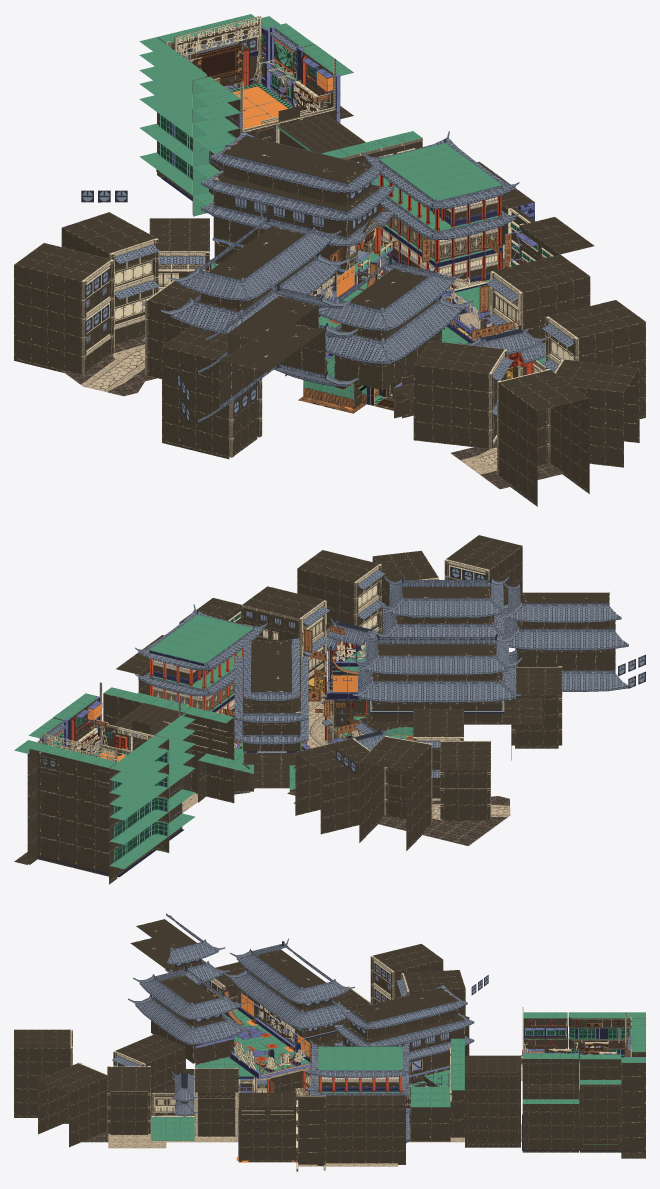
The model's file is c201-color.glb.
3 renders of one model, top to bottom at view 1: azimuth 30°, elevation 25°; view 2: azimuth 150°, elevation 25°; view 3: azimuth 270°, elevation 25°, orthographic. The views are drawn at different scales.
Visible parts, largest first — view 1: world_21_mesh_6, world_3_mesh_12, world_3_mesh_8, world_18_mesh_9, world_5_mesh_1, world_5_mesh_5, world_21_mesh_5, world_7_mesh_4, world_10_mesh_0, world_7_mesh_7, world_18_mesh_10, world_21_mesh_2 (+24 smaller); view 2: world_21_mesh_6, world_3_mesh_8, world_3_mesh_12, world_18_mesh_10, world_5_mesh_1, world_18_mesh_9, world_14_mesh_1, world_5_mesh_5, world_7_mesh_4, world_21_mesh_5, world_7_mesh_7, world_10_mesh_0 (+20 smaller); view 3: world_21_mesh_6, world_18_mesh_10, world_17_mesh_5, world_3_mesh_8, world_14_mesh_1, world_3_mesh_12, world_5_mesh_1, world_5_mesh_5, world_10_mesh_0, world_7_mesh_4, world_7_mesh_7, world_21_mesh_5 (+22 smaller).
Part boxes in pixels (<box>): world_21_mesh_6: <box>14,212,645,506</box>; world_3_mesh_12: <box>162,78,441,459</box>; world_3_mesh_8: <box>160,210,472,422</box>; world_18_mesh_9: <box>139,37,240,216</box>; world_5_mesh_1: <box>210,136,381,290</box>; world_5_mesh_5: <box>201,131,393,300</box>; world_21_mesh_5: <box>81,238,578,475</box>; world_7_mesh_4: <box>379,143,502,290</box>; world_10_mesh_0: <box>493,254,590,377</box>; world_7_mesh_7: <box>362,131,519,300</box>; world_18_mesh_10: <box>156,22,353,212</box>; world_21_mesh_2: <box>81,190,573,416</box>; world_21_mesh_6: <box>295,535,522,850</box>; world_3_mesh_8: <box>352,576,645,713</box>; world_3_mesh_12: <box>117,587,615,760</box>; world_18_mesh_10: <box>14,699,181,884</box>; world_5_mesh_1: <box>198,640,301,802</box>; world_18_mesh_9: <box>109,715,195,868</box>; world_14_mesh_1: <box>102,693,234,828</box>; world_5_mesh_5: <box>234,638,308,745</box>; world_7_mesh_4: <box>149,614,253,720</box>; world_21_mesh_5: <box>327,559,490,823</box>; world_7_mesh_7: <box>135,604,267,732</box>; world_10_mesh_0: <box>242,586,324,680</box>; world_21_mesh_6: <box>14,943,469,1147</box>; world_18_mesh_10: <box>522,1018,645,1158</box>; world_17_mesh_5: <box>238,1092,405,1166</box>; world_3_mesh_8: <box>128,913,354,1044</box>; world_14_mesh_1: <box>410,1055,520,1147</box>; world_3_mesh_12: <box>130,919,584,1064</box>; world_5_mesh_1: <box>343,988,464,1106</box>; world_5_mesh_5: <box>334,985,474,1113</box>; world_10_mesh_0: <box>195,1068,238,1136</box>; world_7_mesh_4: <box>318,1046,402,1092</box>; world_7_mesh_7: <box>309,1039,411,1143</box>; world_21_mesh_5: <box>70,955,409,1134</box>.
Bounding box in the file's own units: 106 × 36.06 × 175.
235 materials, 235 textured.
